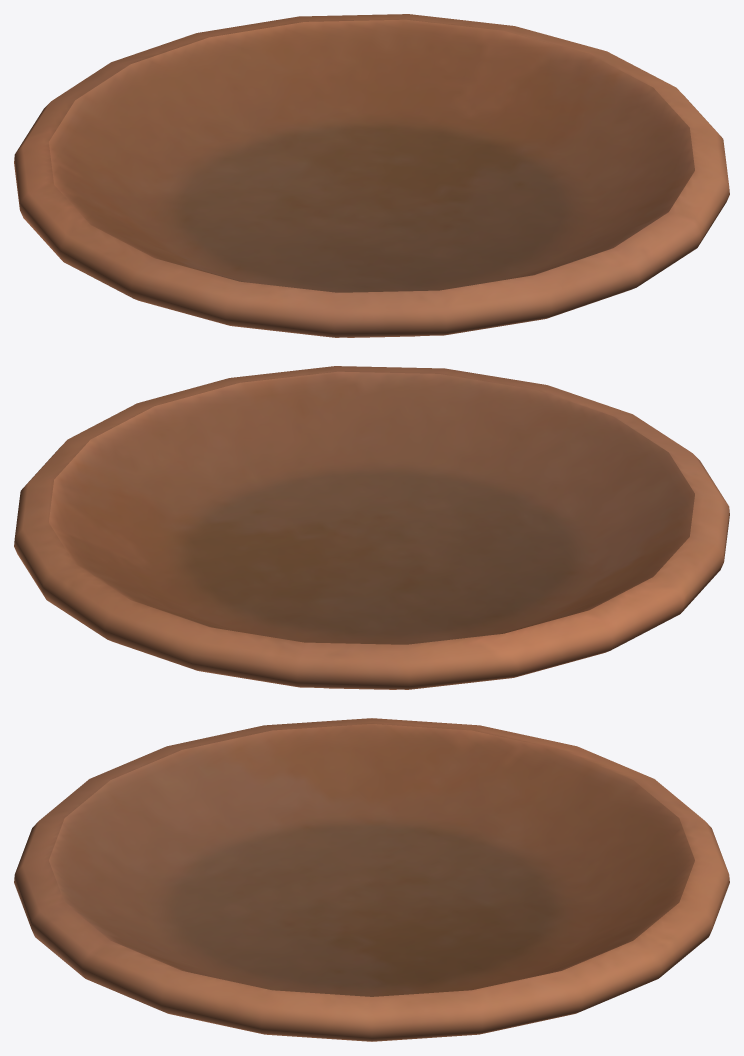
Rendered from SM_Pot_09.fbx.
3 renders of one model, top to bottom at view 1: azimuth 30°, elevation 25°; view 2: azimuth 150°, elevation 25°; view 3: azimuth 270°, elevation 25°, orthographic.
Parts seen in each view (by area): view 1: SM_Pot_09_LOD0; view 2: SM_Pot_09_LOD0; view 3: SM_Pot_09_LOD0.
Part boxes in pixels (x1,y1,x2,y2): SM_Pot_09_LOD0: (14, 14, 729, 337); SM_Pot_09_LOD0: (14, 366, 729, 689); SM_Pot_09_LOD0: (14, 718, 729, 1041).
Bounding box in the file's own units: 16.27 × 16.27 × 2.18.
Materials: 1 (1 with a texture image).
